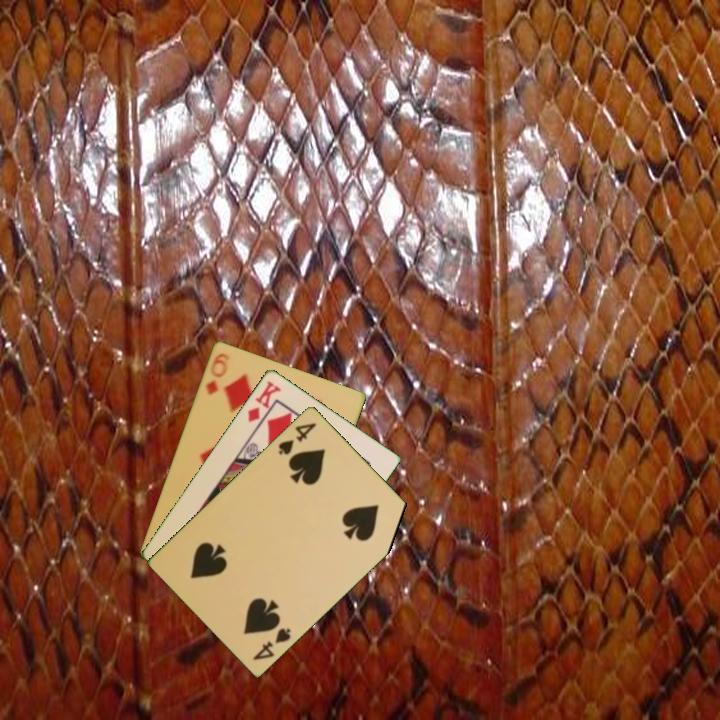4s: (274, 419, 319, 458), (249, 624, 294, 663)
6d: (202, 349, 232, 398)
Kd: (244, 377, 284, 425)
